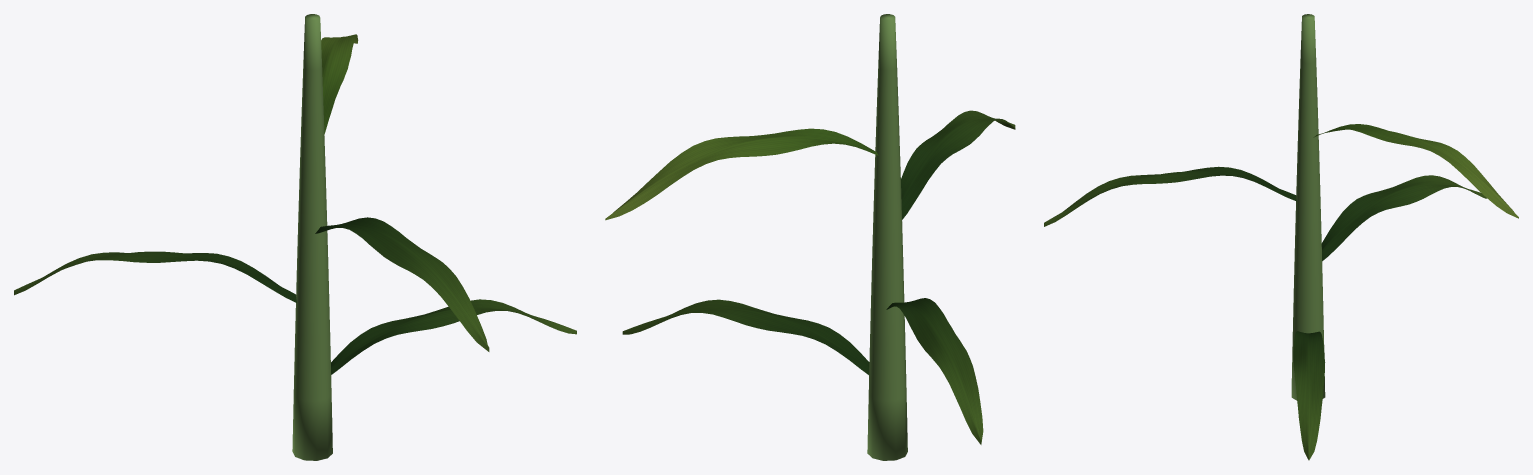
Rendered from lavender-03.glb.
The picture shows the model from 3 angles, left to right: view 1: azimuth 30°, elevation 25°; view 2: azimuth 150°, elevation 25°; view 3: azimuth 270°, elevation 25°; orthographic projection. The views are drawn at different scales.
Parts seen in each view (by area): view 1: lavender_stage_03_stem_fibres.004, lavender_stage_03_leaf_veins.004, lavender_stage_03_young_leaf.004; view 2: lavender_stage_03_stem_fibres.004, lavender_stage_03_leaf_veins.004, lavender_stage_03_young_leaf.004; view 3: lavender_stage_03_leaf_veins.004, lavender_stage_03_stem_fibres.004, lavender_stage_03_young_leaf.004.
Part boxes in pixels (x1,y1,x2,y2): lavender_stage_03_stem_fibres.004: (292, 14, 332, 460); lavender_stage_03_leaf_veins.004: (14, 217, 576, 374); lavender_stage_03_young_leaf.004: (321, 34, 358, 134); lavender_stage_03_stem_fibres.004: (867, 14, 907, 460); lavender_stage_03_leaf_veins.004: (622, 110, 1015, 444); lavender_stage_03_young_leaf.004: (605, 128, 878, 220); lavender_stage_03_leaf_veins.004: (1044, 166, 1486, 460); lavender_stage_03_stem_fibres.004: (1291, 14, 1325, 400); lavender_stage_03_young_leaf.004: (1313, 124, 1518, 218).
Size of the model in its own units: 0.1045 by 0.0944 by 0.1073.
Materials: 3 (2 with a texture image).
